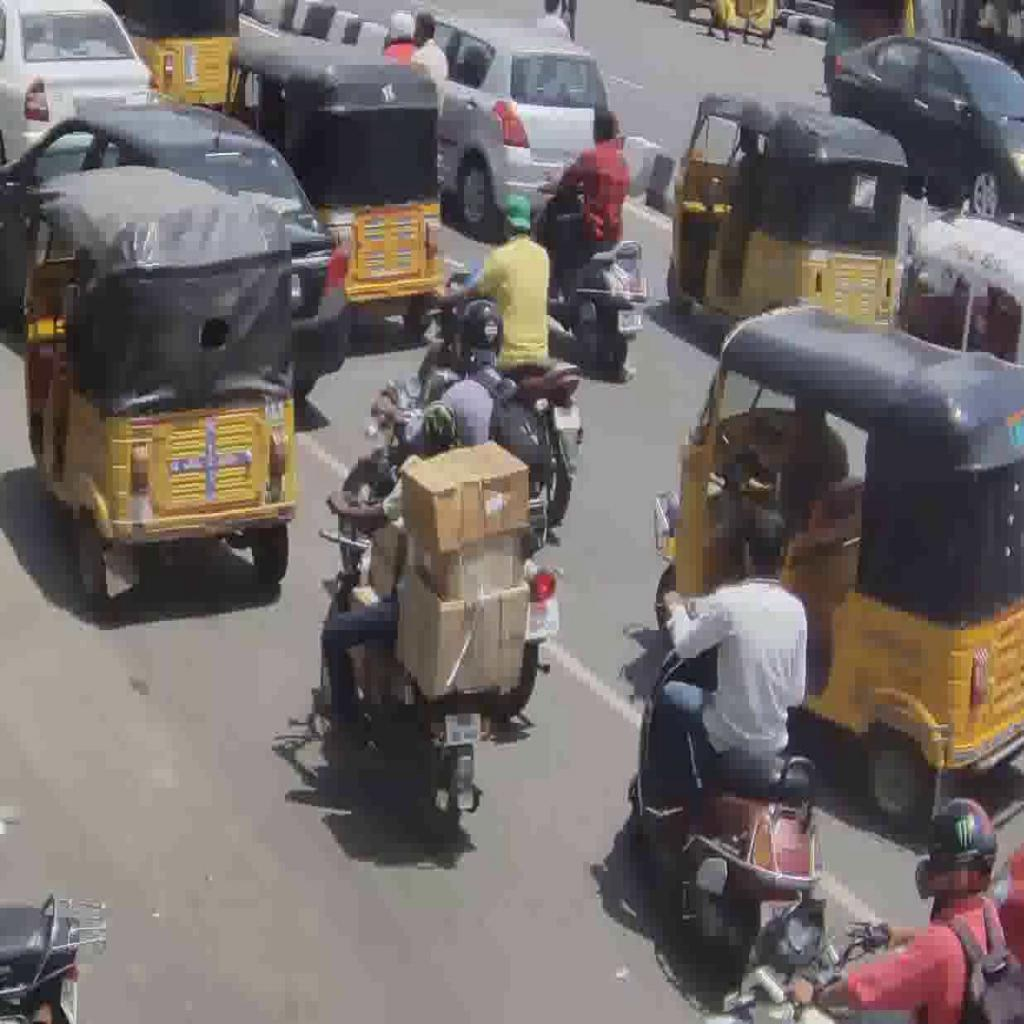helmet: (629, 607, 824, 931), (328, 513, 493, 837), (539, 186, 646, 374)
